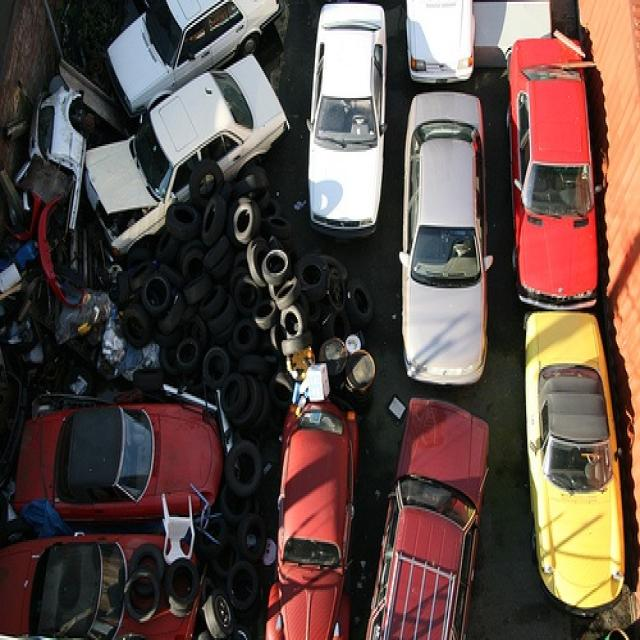car: (80, 48, 294, 261), (521, 306, 630, 615), (360, 392, 494, 638), (398, 87, 497, 388), (504, 33, 608, 311), (9, 396, 229, 527), (262, 396, 362, 638), (0, 528, 207, 638), (101, 0, 286, 119), (301, 0, 390, 234), (12, 81, 90, 236), (401, 0, 477, 86)
chair: (158, 484, 200, 571)
